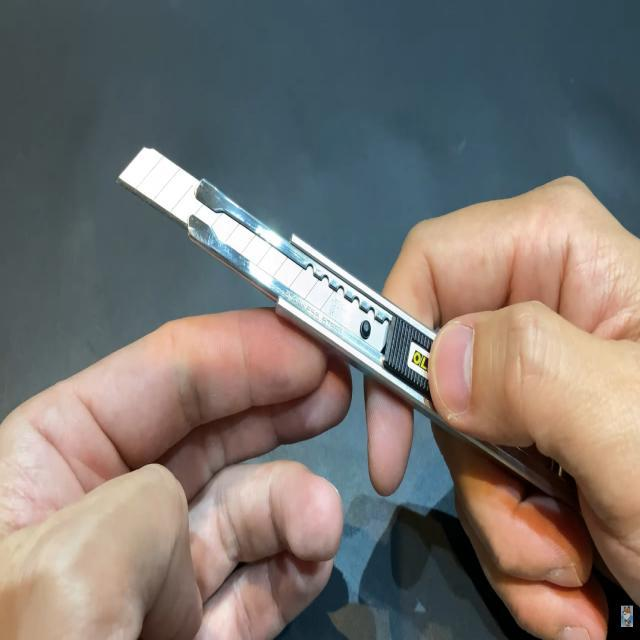cutter: (101, 84, 640, 584)
